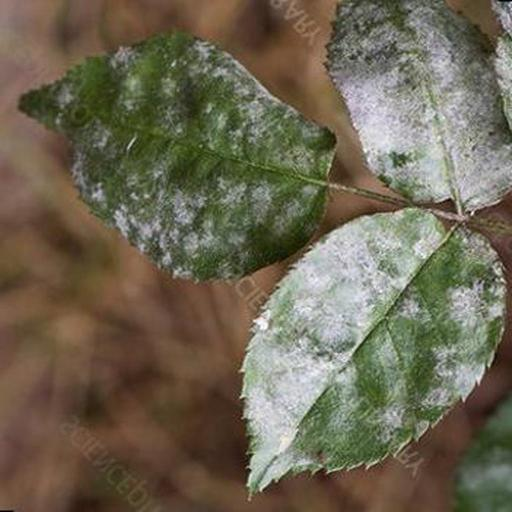powdery_mildew: (19, 31, 335, 280), (243, 209, 506, 493), (328, 0, 512, 211)
